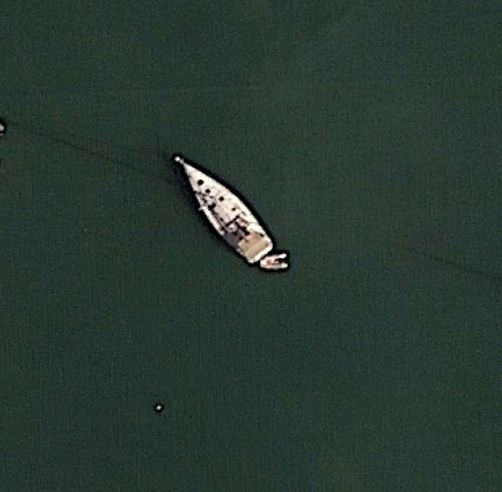boat: (172, 151, 288, 274)
